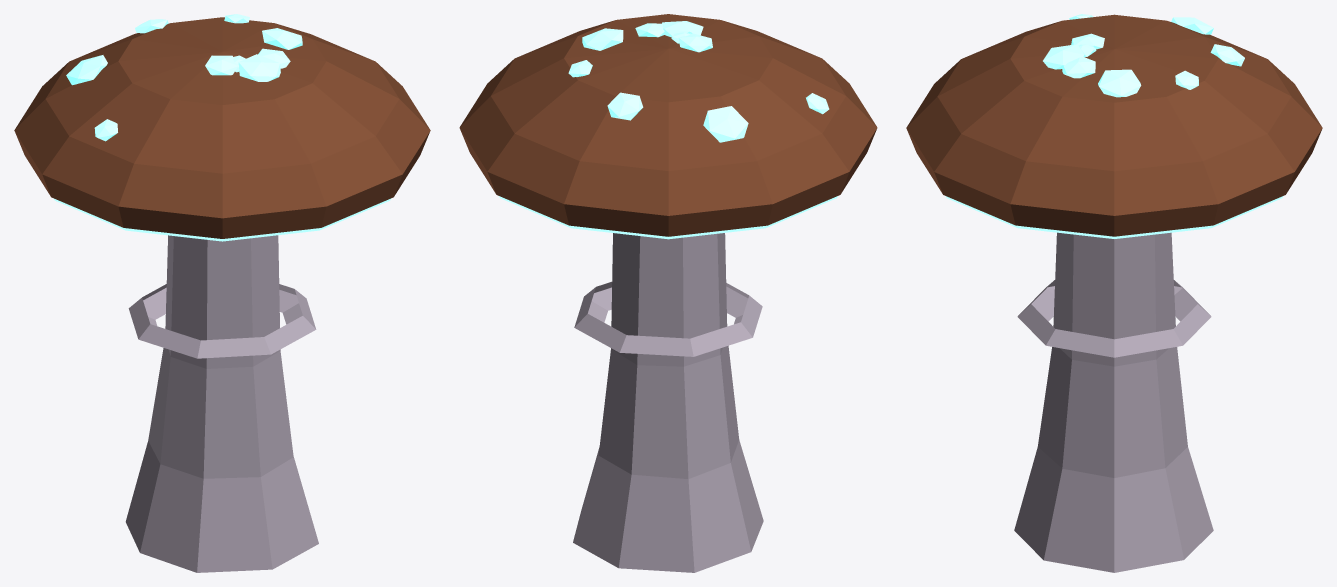
File: champignon_geant_ambre_modele.glb
3 renders of one model, left to right at view 1: azimuth 30°, elevation 25°; view 2: azimuth 150°, elevation 25°; view 3: azimuth 270°, elevation 25°, orthographic.
Visible parts, largest first — view 1: L5.004, L1.008, L3.005, L7.005, P17.015, P14.018, P11.018, P16.020; view 2: L5.004, L1.008, L3.005, P14.018, L7.005, P13.017, P11.018; view 3: L5.004, L1.008, L3.005, P11.018, L7.005, P17.015, P10.010.
Part boxes in pixels (left/top/right/bottom): L5.004: left=14, top=17, right=430, bottom=238; L1.008: left=125, top=235, right=318, bottom=572; L3.005: left=128, top=284, right=316, bottom=358; L7.005: left=53, top=198, right=391, bottom=241; P17.015: left=238, top=54, right=280, bottom=81; P14.018: left=66, top=55, right=107, bottom=85; P11.018: left=262, top=28, right=302, bottom=49; P16.020: left=205, top=55, right=238, bottom=75; L5.004: left=459, top=14, right=877, bottom=236; L1.008: left=573, top=233, right=763, bottom=572; L3.005: left=574, top=281, right=762, bottom=356; P14.018: left=703, top=106, right=748, bottom=142; L7.005: left=499, top=196, right=837, bottom=239; P13.017: left=607, top=92, right=643, bottom=120; P11.018: left=582, top=28, right=623, bottom=50; L5.004: left=906, top=14, right=1322, bottom=236; L1.008: left=1014, top=232, right=1213, bottom=572; L3.005: left=1017, top=280, right=1211, bottom=357; P11.018: left=1098, top=69, right=1141, bottom=97; L7.005: left=945, top=196, right=1283, bottom=238; P17.015: left=1043, top=44, right=1085, bottom=69; P10.010: left=1062, top=57, right=1095, bottom=78.
Bounding box in the file's own units: 1.8 × 2.32 × 1.8.
